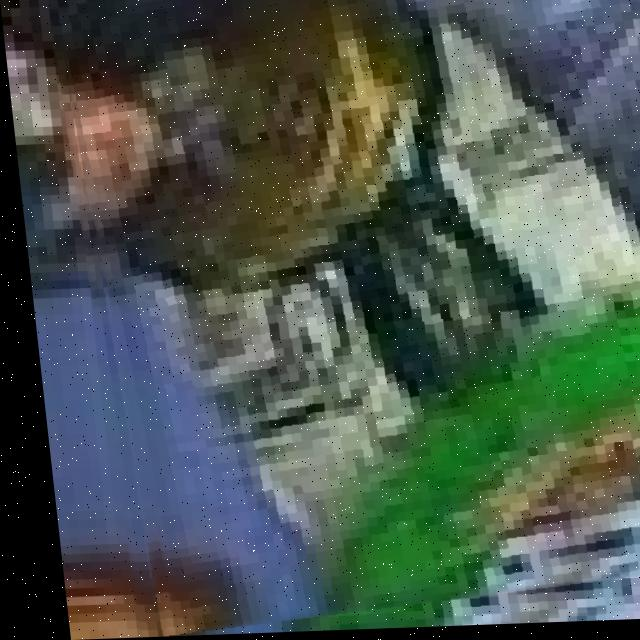can: (82, 0, 640, 617)
